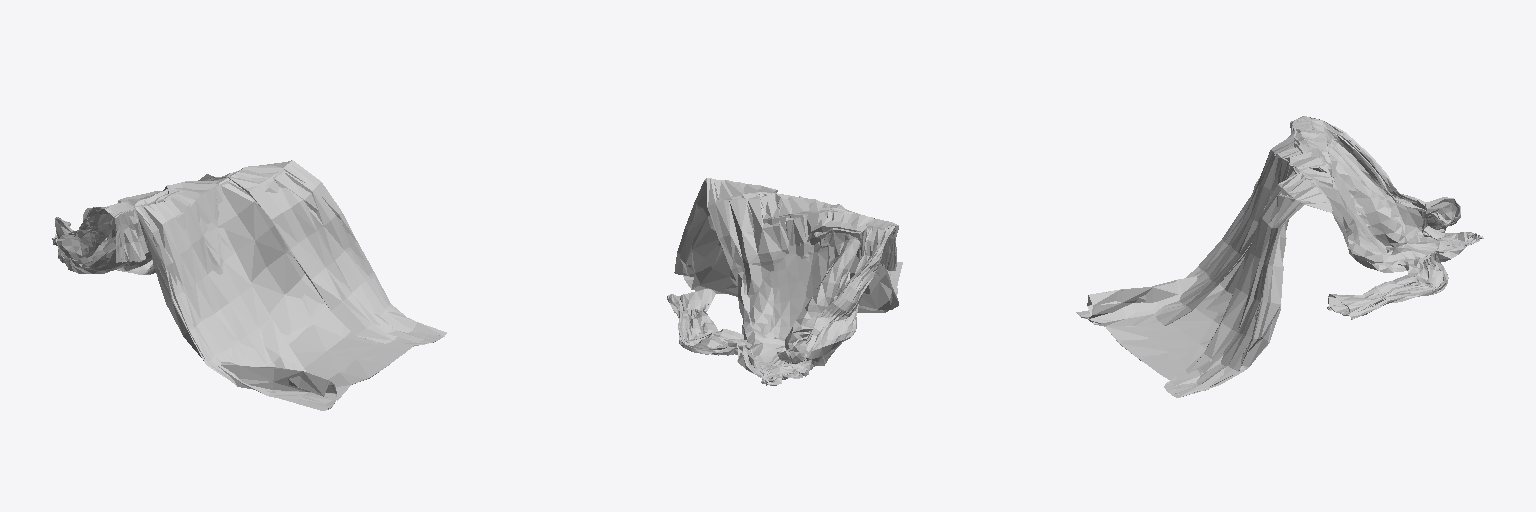
File: Mantel_liegend.obj
The picture shows the model from 3 angles: view 1: azimuth 30°, elevation 25°; view 2: azimuth 150°, elevation 25°; view 3: azimuth 270°, elevation 25°; orthographic projection.
Parts seen in each view (by area): view 1: Mantel_Cube.003; view 2: Mantel_Cube.003; view 3: Mantel_Cube.003.
Part boxes in pixels (left/top/right/bottom): Mantel_Cube.003: left=52, top=160, right=446, bottom=410; Mantel_Cube.003: left=667, top=178, right=902, bottom=385; Mantel_Cube.003: left=1076, top=116, right=1483, bottom=397.
Size of the model in its own units: 1.9 by 0.9832 by 2.39.